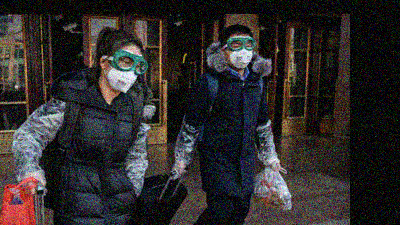with_mask: (106, 52, 146, 95), (226, 37, 254, 69)
